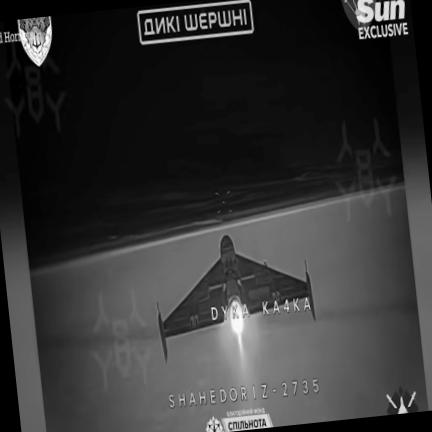Shahed: (157, 235, 315, 361)
